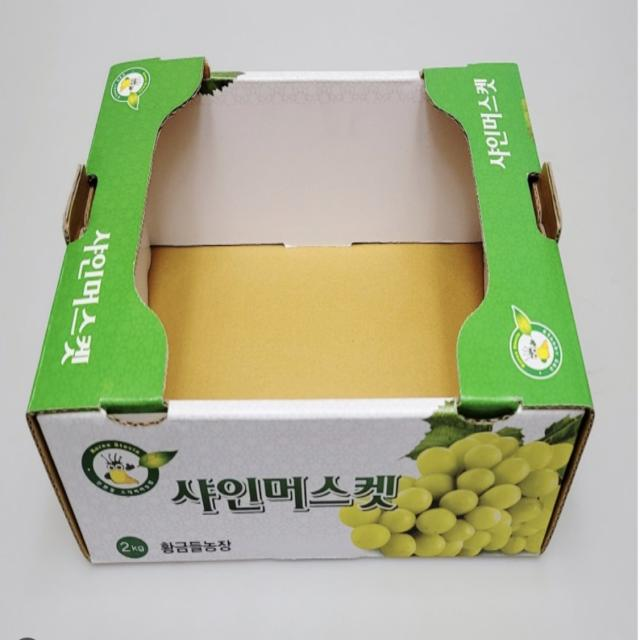biodegradable: (27, 32, 624, 607)
